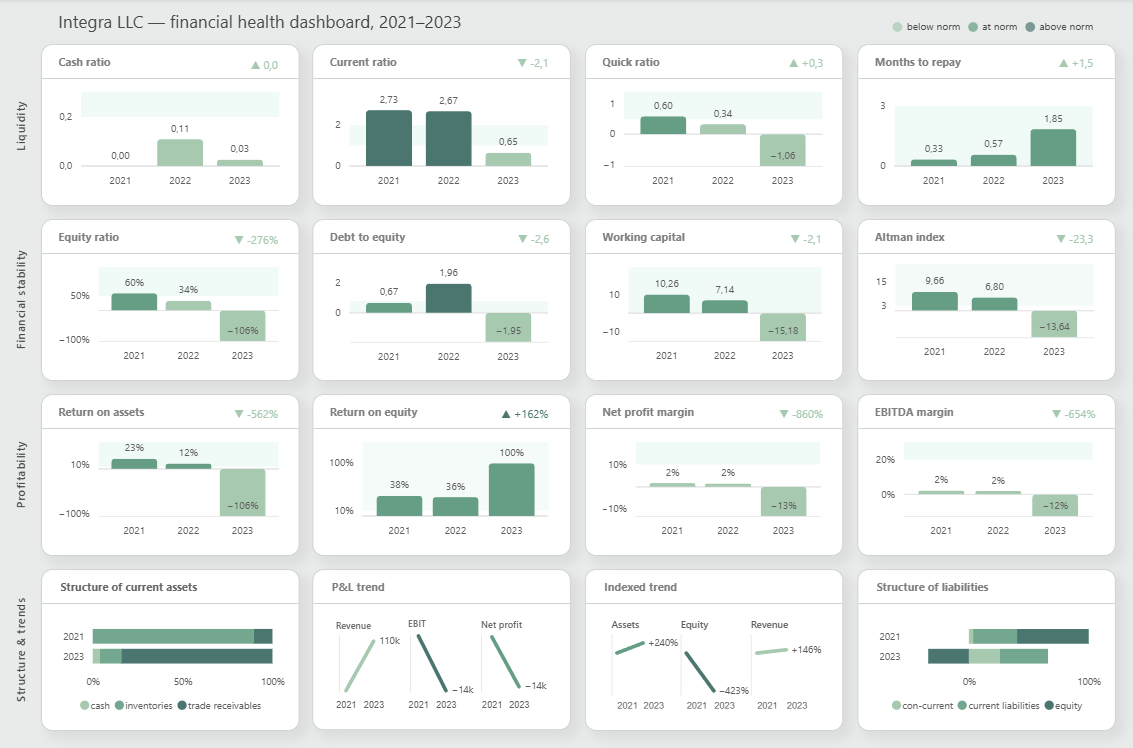

Layout of this report page (visuals, bound fields, positions):
{"tool":"powerbi","page":{"name":"Financial health","canvas":[1235,820],"ordinal":0},"visuals":[{"type":"hundredPercentStackedBarChart","title":"Structure of current assets","fields":{"Category":["years.Year"],"Y":["Sum(financials_long.Value)"],"Series":["financials_long.English_Label"]},"box":[50,620.3,280,174.9],"z":0},{"type":"STANDALONEdeneb7E15AEF80B9E4D4F8E12924291ECE89A","fields":{"dataset":["Sections.Label Spaced"]},"box":[16,54.2,29.8,173.5],"z":1000},{"type":"STANDALONEdeneb7E15AEF80B9E4D4F8E12924291ECE89A","fields":{"dataset":["Sections.Label Spaced"]},"box":[16,243,29.8,173.5],"z":2000},{"type":"STANDALONEdeneb7E15AEF80B9E4D4F8E12924291ECE89A","fields":{"dataset":["Sections.Label Spaced"]},"box":[16,433,29.8,173.5],"z":3000},{"type":"STANDALONEdeneb7E15AEF80B9E4D4F8E12924291ECE89A","fields":{"dataset":["palette.label","palette.notes","palette.hex"]},"box":[967,13,250,39],"z":4000},{"type":"hundredPercentStackedBarChart","title":"Structure of liabilities","fields":{"Category":["years.Year"],"Y":["Sum(financials_long.Value)"],"Series":["financials_long.English_Label"]},"box":[935,620,280,175],"z":5000},{"type":"STANDALONEdeneb7E15AEF80B9E4D4F8E12924291ECE89A","title":"Indexed trend","fields":{"dataset":["financials_long.Year","financials_long.Assets Index %","financials_long.Revenue Index %","financials_long.Assets Index %","financials_long.Equity Index %"]},"box":[640,620,280,175],"z":6000},{"type":"STANDALONEdeneb7E15AEF80B9E4D4F8E12924291ECE89A","fields":{"dataset":["Sections.Label Spaced"]},"box":[16,623,29.5,173],"z":7000},{"type":"STANDALONEdeneb7E15AEF80B9E4D4F8E12924291ECE89A","title":"Quick ratio","fields":{"dataset":["ratios.Year","ratios.Ratio Value","ratios.Norm Low","ratios.Norm High","ratios.Norm Status","ratios.Color Hex"]},"box":[640,50,280,175],"z":8000},{"type":"STANDALONEdeneb7E15AEF80B9E4D4F8E12924291ECE89A","title":"Months to repay","fields":{"dataset":["ratios.Year","ratios.Ratio Value","ratios.Norm Low","ratios.Norm High","ratios.Norm Status","ratios.Color Hex"]},"box":[935,50,280,175],"z":9000},{"type":"STANDALONEdeneb7E15AEF80B9E4D4F8E12924291ECE89A","title":"Cash ratio","fields":{"dataset":["ratios.Year","ratios.Ratio Value","ratios.Norm Low","ratios.Norm High","ratios.Norm Status","ratios.Color Hex"]},"box":[50,50,280,175],"z":10000},{"type":"STANDALONEdeneb7E15AEF80B9E4D4F8E12924291ECE89A","title":"P&L trend","fields":{"dataset":["financials_long.Year","financials_long.Variable_Name","financials_long.Value"]},"box":[345,620.2,280,174.4],"z":11000},{"type":"STANDALONEdeneb7E15AEF80B9E4D4F8E12924291ECE89A","title":"Current ratio","fields":{"dataset":["ratios.Year","ratios.Ratio Value","ratios.Norm Low","ratios.Norm High","ratios.Norm Status","ratios.Color Hex"]},"box":[345,50,280,175],"z":12000},{"type":"STANDALONEdeneb7E15AEF80B9E4D4F8E12924291ECE89A","title":"Net profit margin","fields":{"dataset":["ratios.Year","ratios.Ratio Value","ratios.Norm Low","ratios.Norm High","ratios.Norm Status","ratios.Color Hex"]},"box":[640,430,280,175],"z":12500},{"type":"STANDALONEdeneb7E15AEF80B9E4D4F8E12924291ECE89A","title":"Return on equity","fields":{"dataset":["ratios.Year","ratios.Ratio Value","ratios.Norm Low","ratios.Norm High","ratios.Norm Status","ratios.Color Hex"]},"box":[345,430,280,175],"z":12750},{"type":"STANDALONEdeneb7E15AEF80B9E4D4F8E12924291ECE89A","title":"Working capital","fields":{"dataset":["ratios.Year","ratios.Ratio Value","ratios.Norm Low","ratios.Norm High","ratios.Norm Status","ratios.Color Hex"]},"box":[640,240,280,175],"z":12812},{"type":"STANDALONEdeneb7E15AEF80B9E4D4F8E12924291ECE89A","title":"Return on assets","fields":{"dataset":["ratios.Year","ratios.Ratio Value","ratios.Norm Low","ratios.Norm High","ratios.Norm Status","ratios.Color Hex"]},"box":[50,430,280,175],"z":12875},{"type":"STANDALONEdeneb7E15AEF80B9E4D4F8E12924291ECE89A","title":"Debt to equity","fields":{"dataset":["ratios.Year","ratios.Ratio Value","ratios.Norm Low","ratios.Norm High","ratios.Norm Status","ratios.Color Hex"]},"box":[345,240,280,175],"z":12906},{"type":"STANDALONEdeneb7E15AEF80B9E4D4F8E12924291ECE89A","title":"Altman index","fields":{"dataset":["ratios.Year","ratios.Ratio Value","ratios.Norm Low","ratios.Norm High","ratios.Norm Status","ratios.Color Hex"]},"box":[935,240,280,175],"z":12937},{"type":"STANDALONEdeneb7E15AEF80B9E4D4F8E12924291ECE89A","title":"Equity ratio","fields":{"dataset":["ratios.Year","ratios.Ratio Value","ratios.Norm Low","ratios.Norm High","ratios.Norm Status","ratios.Color Hex"]},"box":[50,240,280,175],"z":12968},{"type":"STANDALONEdeneb7E15AEF80B9E4D4F8E12924291ECE89A","title":"EBITDA margin","fields":{"dataset":["ratios.Year","ratios.Ratio Value","ratios.Norm Low","ratios.Norm High","ratios.Norm Status","ratios.Color Hex"]},"box":[935,430,280,175],"z":13000},{"type":"textbox","box":[64,8,526.2,55],"z":14000},{"type":"card","fields":{"Values":["ratios.YoY Chip"]},"box":[251.2,55,82.9,39],"z":15000},{"type":"card","fields":{"Values":["ratios.YoY Chip"]},"box":[543,54.9,82.9,37.8],"z":16000},{"type":"card","fields":{"Values":["ratios.YoY Chip"]},"box":[837.8,54.9,84.1,37.8],"z":17000},{"type":"card","fields":{"Values":["ratios.YoY Chip"]},"box":[1131,54.9,84.1,37.8],"z":18000},{"type":"card","fields":{"Values":["ratios.YoY Chip"]},"box":[242,245,84.1,38.6],"z":19000},{"type":"card","fields":{"Values":["ratios.YoY Chip"]},"box":[542,245,84.1,37.5],"z":20000},{"type":"card","fields":{"Values":["ratios.YoY Chip"]},"box":[838,245,84.1,37.5],"z":21000},{"type":"card","fields":{"Values":["ratios.YoY Chip"]},"box":[242,435,84.1,37.5],"z":22000},{"type":"card","fields":{"Values":["ratios.YoY Chip"]},"box":[533,435,84.1,37.5],"z":23000},{"type":"card","fields":{"Values":["ratios.YoY Chip"]},"box":[832,435,84.1,37.5],"z":24000},{"type":"card","fields":{"Values":["ratios.YoY Chip"]},"box":[1128,435,84.1,37.5],"z":25000},{"type":"card","fields":{"Values":["ratios.YoY Chip"]},"box":[1129,245,84.1,37.5],"z":26000}]}

Visuals, with their boxes in screenshot pixels (x1, y1, x2, y2), scaled from the page's 1235x820 canvas onto the 1133x748 screenshot:
"Structure of current assets" hundredPercentStackedBarChart: 46/566/303/725
STANDALONEdeneb7E15AEF80B9E4D4F8E12924291ECE89A - Sections.Label Spaced: 15/49/42/208
STANDALONEdeneb7E15AEF80B9E4D4F8E12924291ECE89A - Sections.Label Spaced: 15/222/42/380
STANDALONEdeneb7E15AEF80B9E4D4F8E12924291ECE89A - Sections.Label Spaced: 15/395/42/553
STANDALONEdeneb7E15AEF80B9E4D4F8E12924291ECE89A - palette.label x palette.notes: 887/12/1116/47
"Structure of liabilities" hundredPercentStackedBarChart: 858/566/1115/725
"Indexed trend" STANDALONEdeneb7E15AEF80B9E4D4F8E12924291ECE89A: 587/566/844/725
STANDALONEdeneb7E15AEF80B9E4D4F8E12924291ECE89A - Sections.Label Spaced: 15/568/42/726
"Quick ratio" STANDALONEdeneb7E15AEF80B9E4D4F8E12924291ECE89A: 587/46/844/205
"Months to repay" STANDALONEdeneb7E15AEF80B9E4D4F8E12924291ECE89A: 858/46/1115/205
"Cash ratio" STANDALONEdeneb7E15AEF80B9E4D4F8E12924291ECE89A: 46/46/303/205
"P&L trend" STANDALONEdeneb7E15AEF80B9E4D4F8E12924291ECE89A: 317/566/573/725
"Current ratio" STANDALONEdeneb7E15AEF80B9E4D4F8E12924291ECE89A: 317/46/573/205
"Net profit margin" STANDALONEdeneb7E15AEF80B9E4D4F8E12924291ECE89A: 587/392/844/552
"Return on equity" STANDALONEdeneb7E15AEF80B9E4D4F8E12924291ECE89A: 317/392/573/552
"Working capital" STANDALONEdeneb7E15AEF80B9E4D4F8E12924291ECE89A: 587/219/844/379
"Return on assets" STANDALONEdeneb7E15AEF80B9E4D4F8E12924291ECE89A: 46/392/303/552
"Debt to equity" STANDALONEdeneb7E15AEF80B9E4D4F8E12924291ECE89A: 317/219/573/379
"Altman index" STANDALONEdeneb7E15AEF80B9E4D4F8E12924291ECE89A: 858/219/1115/379
"Equity ratio" STANDALONEdeneb7E15AEF80B9E4D4F8E12924291ECE89A: 46/219/303/379
"EBITDA margin" STANDALONEdeneb7E15AEF80B9E4D4F8E12924291ECE89A: 858/392/1115/552
textbox: 59/7/541/57
card - ratios.YoY Chip: 230/50/307/86
card - ratios.YoY Chip: 498/50/574/85
card - ratios.YoY Chip: 769/50/846/85
card - ratios.YoY Chip: 1038/50/1115/85
card - ratios.YoY Chip: 222/223/299/259
card - ratios.YoY Chip: 497/223/574/258
card - ratios.YoY Chip: 769/223/846/258
card - ratios.YoY Chip: 222/397/299/431
card - ratios.YoY Chip: 489/397/566/431
card - ratios.YoY Chip: 763/397/840/431
card - ratios.YoY Chip: 1035/397/1112/431
card - ratios.YoY Chip: 1036/223/1113/258
